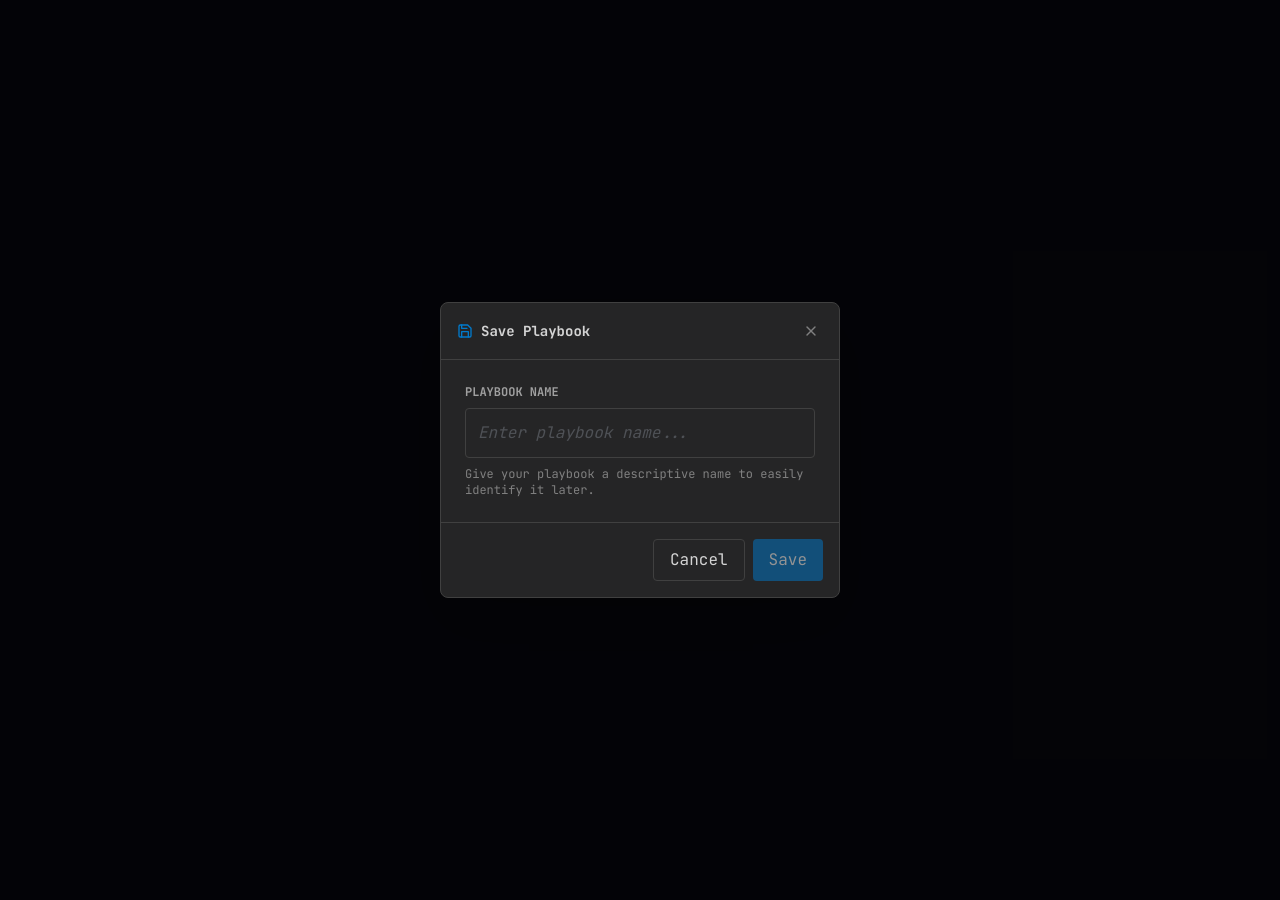
Test: PlaybookNameModal › validation › should enable save button when name is valid
Type "Valid Name" into the field with placeholder "Enter playbook name..." at (640, 433), box [465, 408, 815, 458]
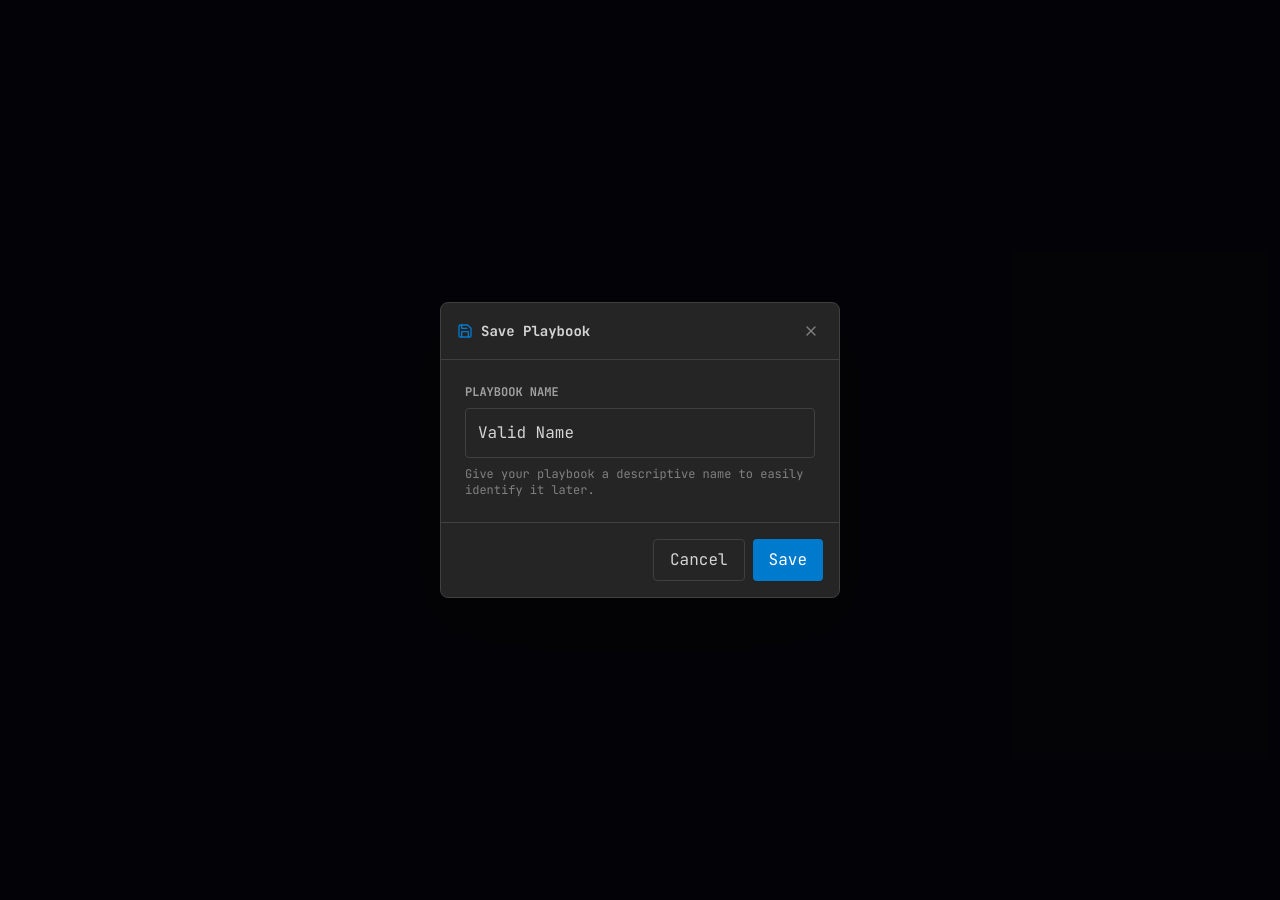
Expected: the button "Save" is enabled, [753, 539, 823, 581]
